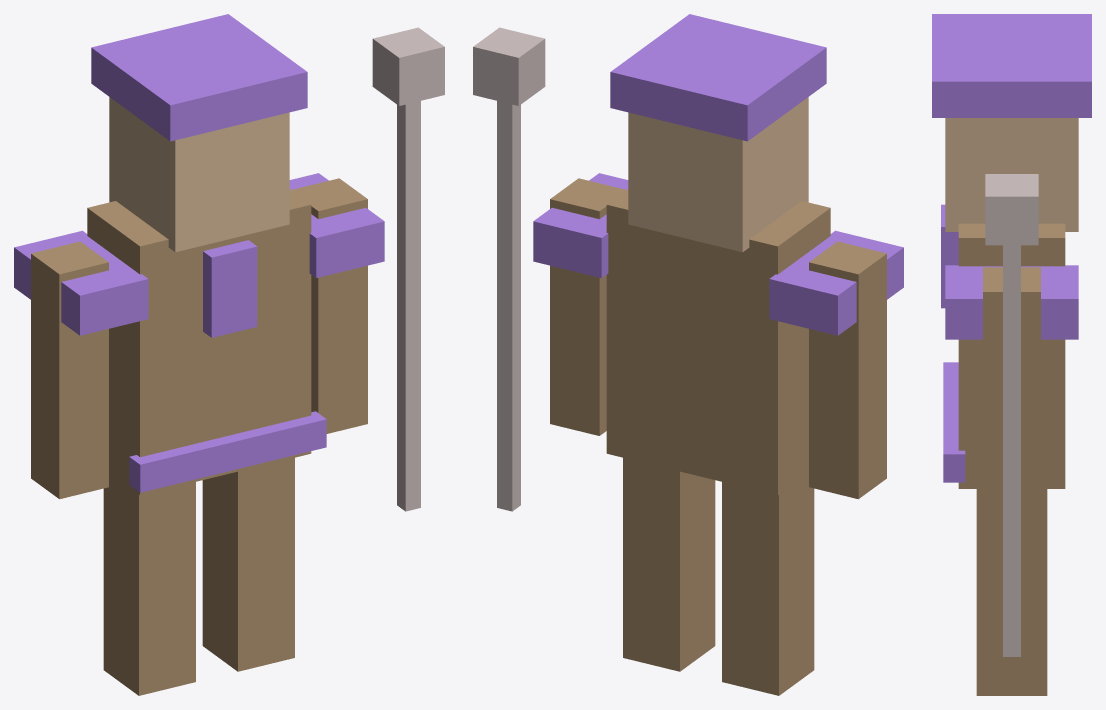
Rendered from 13_tamsin_voidrill_guide_from_deprecated.glb.
The picture shows the model from 3 angles, left to right: view 1: azimuth 30°, elevation 25°; view 2: azimuth 150°, elevation 25°; view 3: azimuth 270°, elevation 25°; orthographic projection.
Parts seen in each view (by area): view 1: Tamsin Voidrill, Guide from Deprecated; view 2: Tamsin Voidrill, Guide from Deprecated; view 3: Tamsin Voidrill, Guide from Deprecated.
Boxes of the visible parts, x1,y1,x2,y2 form: Tamsin Voidrill, Guide from Deprecated: (14,14,444,695); Tamsin Voidrill, Guide from Deprecated: (473,14,903,695); Tamsin Voidrill, Guide from Deprecated: (932,14,1091,695).
Size of the model in its own units: 1 by 1.5 by 0.356.
